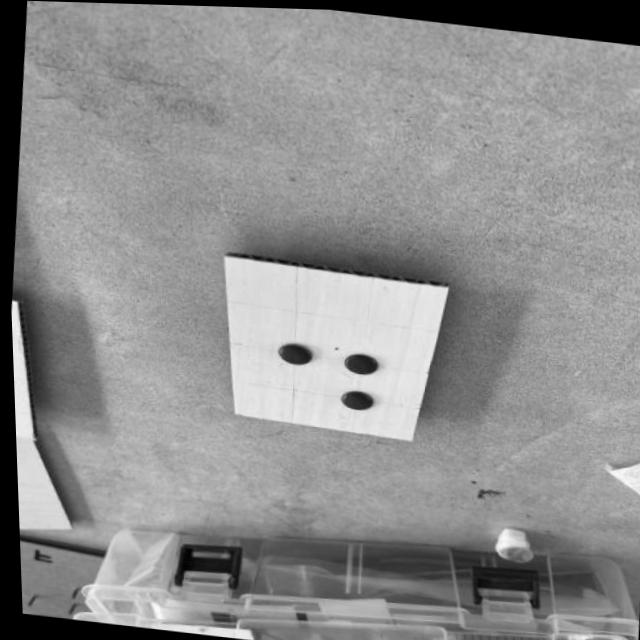braiile: (227, 257, 442, 438)
